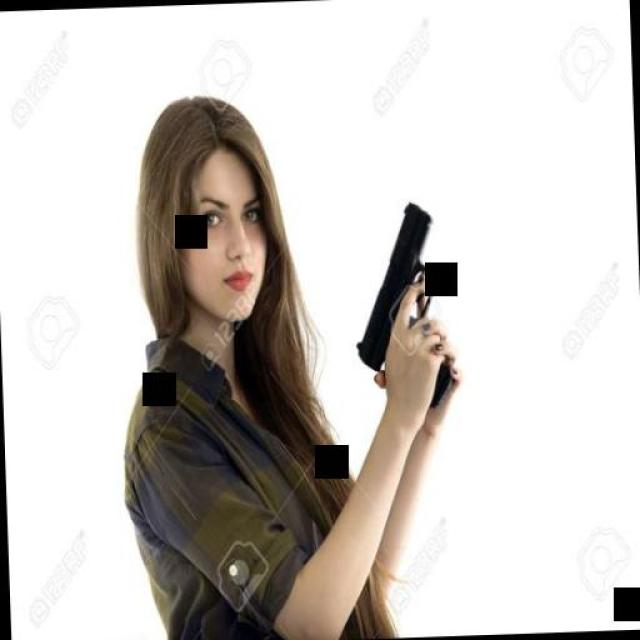gun: (338, 195, 454, 423)
